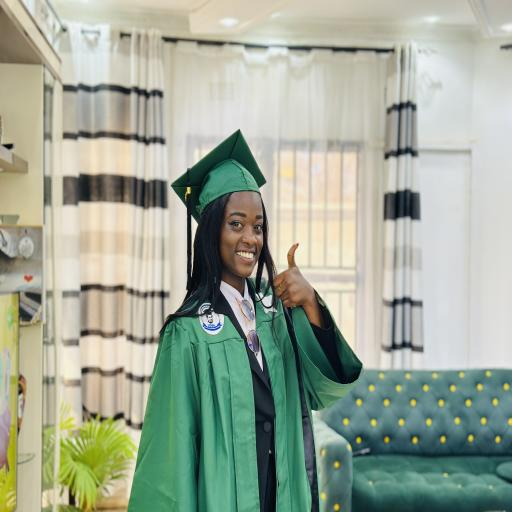LAURENE: (203, 168, 269, 288)
